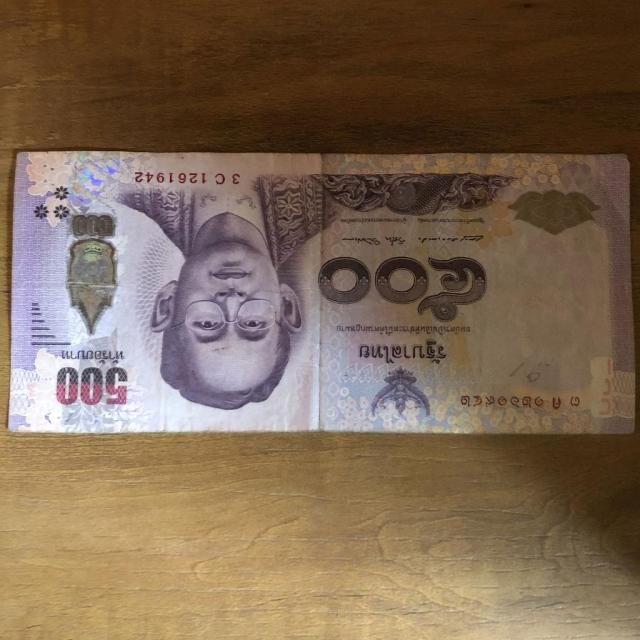THAI500: (12, 148, 634, 433)
